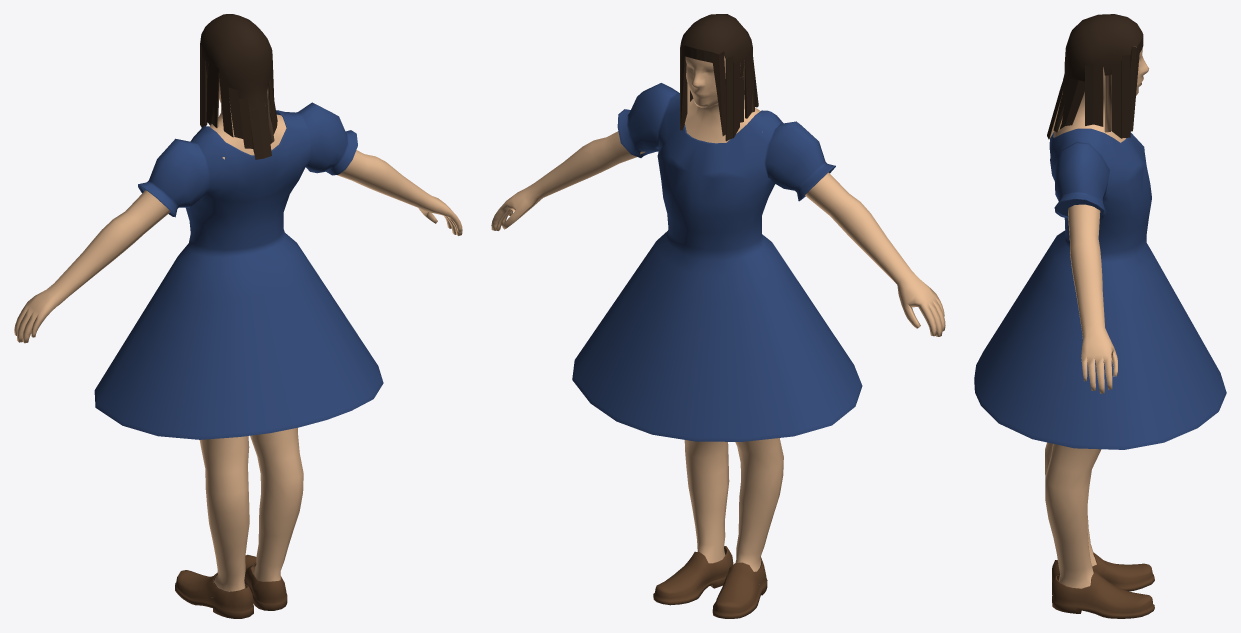
Rendered from PlayerAlice.fbx.
The picture shows the model from 3 angles, left to right: view 1: azimuth 30°, elevation 25°; view 2: azimuth 150°, elevation 25°; view 3: azimuth 270°, elevation 25°; orthographic projection.
Parts seen in each view (by area): view 1: GatheredDress_AboveKnee:gathered_dress_above_knee, CharacterFemale:woman, MensBusinessShoes:shoeL, MensBusinessShoes:shoeR; view 2: GatheredDress_AboveKnee:gathered_dress_above_knee, CharacterFemale:woman, MensBusinessShoes:shoeR, MensBusinessShoes:shoeL; view 3: GatheredDress_AboveKnee:gathered_dress_above_knee, CharacterFemale:woman, MensBusinessShoes:shoeR, MensBusinessShoes:shoeL.
Part boxes in pixels (x1,y1,x2,y2): GatheredDress_AboveKnee:gathered_dress_above_knee: [94, 102, 383, 439]; CharacterFemale:woman: [14, 14, 462, 597]; MensBusinessShoes:shoeL: [175, 570, 253, 618]; MensBusinessShoes:shoeR: [244, 554, 287, 610]; GatheredDress_AboveKnee:gathered_dress_above_knee: [572, 83, 862, 441]; CharacterFemale:woman: [491, 14, 945, 571]; MensBusinessShoes:shoeR: [653, 546, 733, 605]; MensBusinessShoes:shoeL: [712, 556, 767, 618]; GatheredDress_AboveKnee:gathered_dress_above_knee: [974, 128, 1226, 449]; CharacterFemale:woman: [1045, 14, 1149, 588]; MensBusinessShoes:shoeR: [1052, 572, 1154, 618]; MensBusinessShoes:shoeL: [1052, 552, 1154, 591].
Size of the model in its own units: 81.78 by 102 by 40.16.
